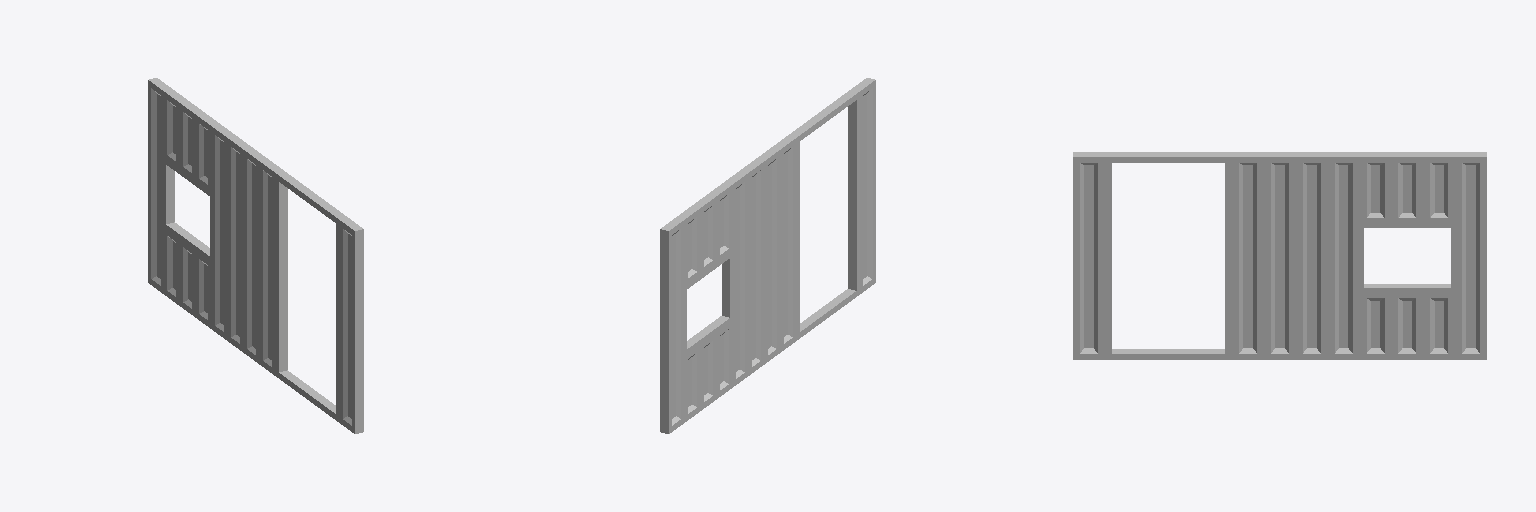
The model's file is ContainerFront.obj.
3 views of the same model, side by side, from view 1: azimuth 30°, elevation 25°; view 2: azimuth 150°, elevation 25°; view 3: azimuth 270°, elevation 25° (orthographic).
Size of the model in its own units: 11.88 by 260 by 480.